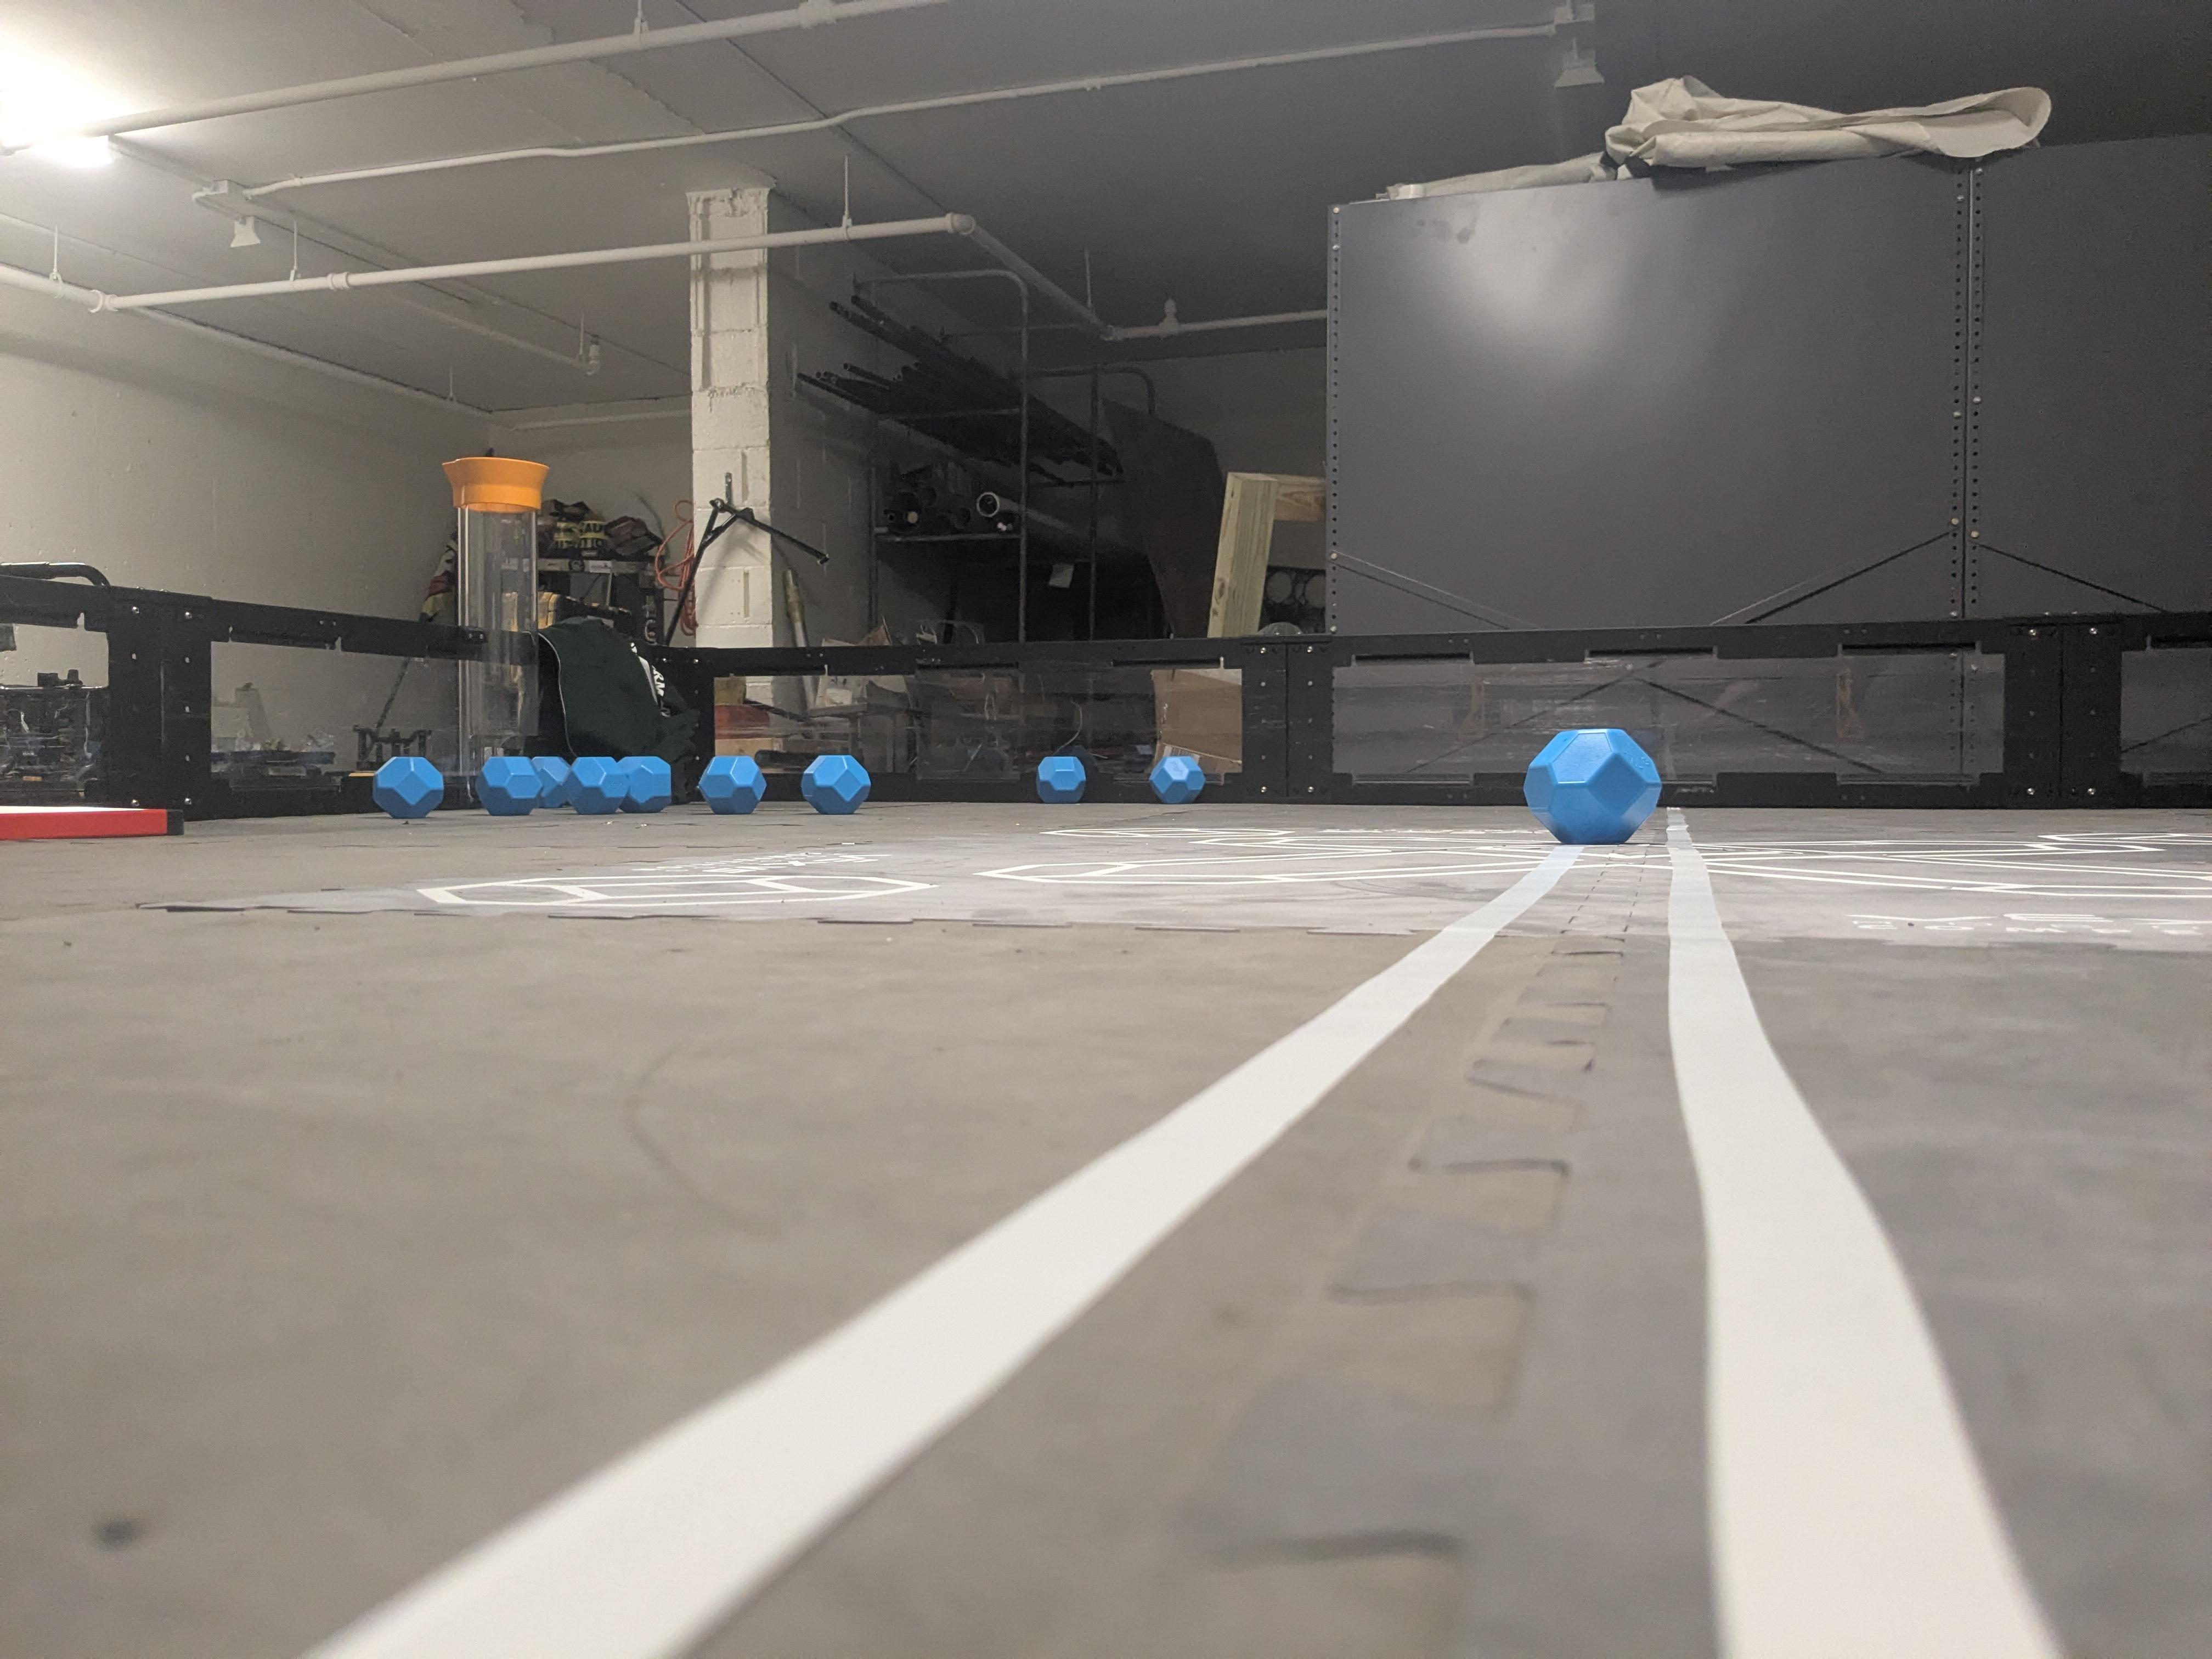Vex-Pieces-BLUE: (1524, 727, 1662, 845), (374, 756, 444, 819), (801, 755, 871, 814), (474, 756, 542, 816), (698, 756, 765, 814), (570, 756, 627, 816), (620, 756, 672, 812), (1150, 755, 1205, 805), (1036, 756, 1087, 803), (531, 756, 577, 809)
